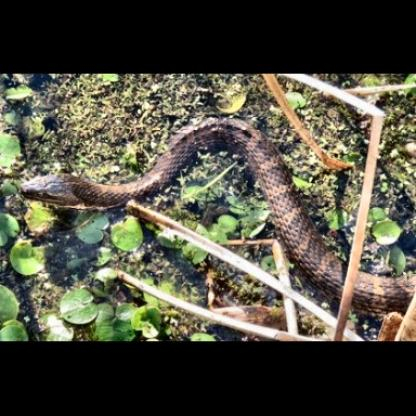Snake: (1, 90, 416, 341)
